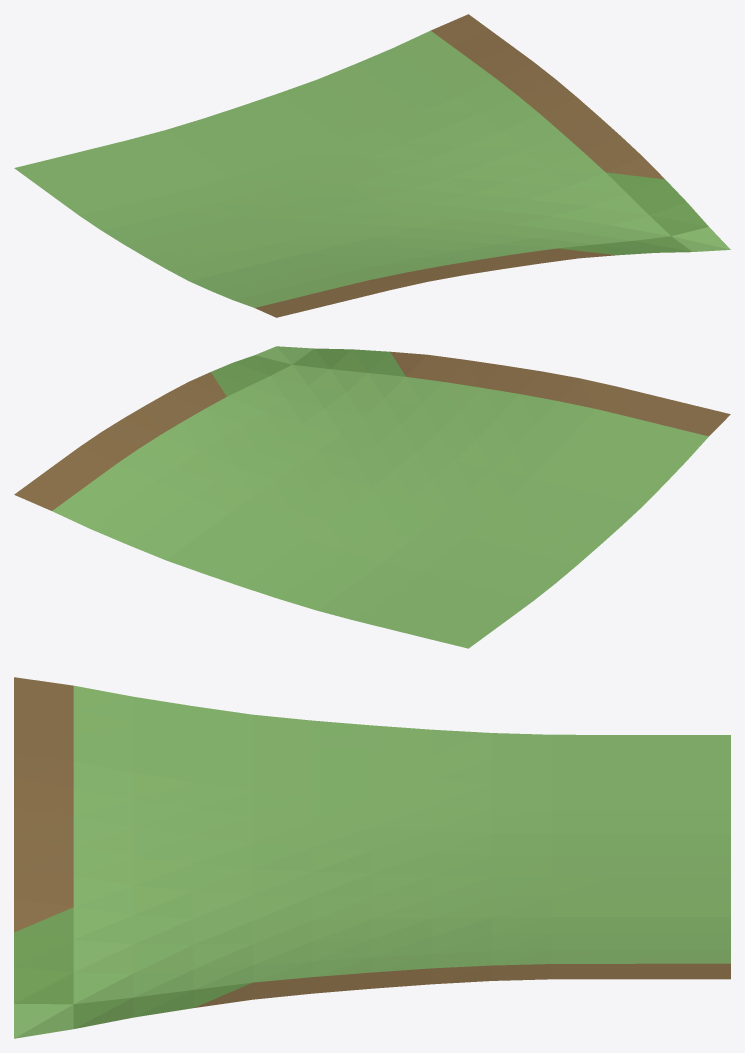
The model's file is chunk_-1_-1.obj.
The picture shows the model from 3 angles, top to bottom: view 1: azimuth 30°, elevation 25°; view 2: azimuth 150°, elevation 25°; view 3: azimuth 270°, elevation 25°; orthographic projection. The views are drawn at different scales.
Parts seen in each view (by area): view 1: grass_b, dirt, grass_a; view 2: grass_b, dirt, grass_a; view 3: grass_b, dirt, grass_a.
Part boxes in pixels (x1,y1,x2,y2): grass_b: [14, 30, 730, 307]; dirt: [255, 14, 664, 317]; grass_a: [558, 172, 708, 255]; grass_b: [52, 346, 708, 648]; dirt: [14, 351, 730, 510]; grass_a: [211, 348, 405, 396]; grass_b: [14, 685, 730, 1038]; dirt: [14, 677, 730, 1007]; grass_a: [14, 907, 251, 1028].
Bounding box in the file's own units: 16 × 1.47 × 16.
